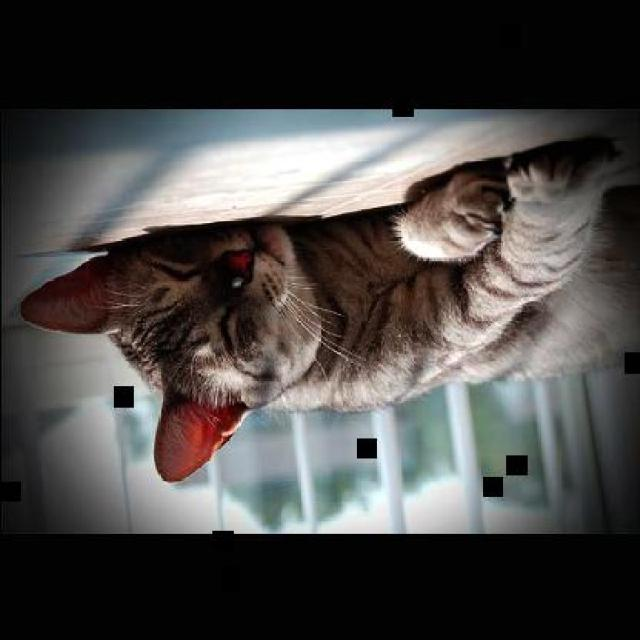unauthorized: (17, 132, 638, 483)
